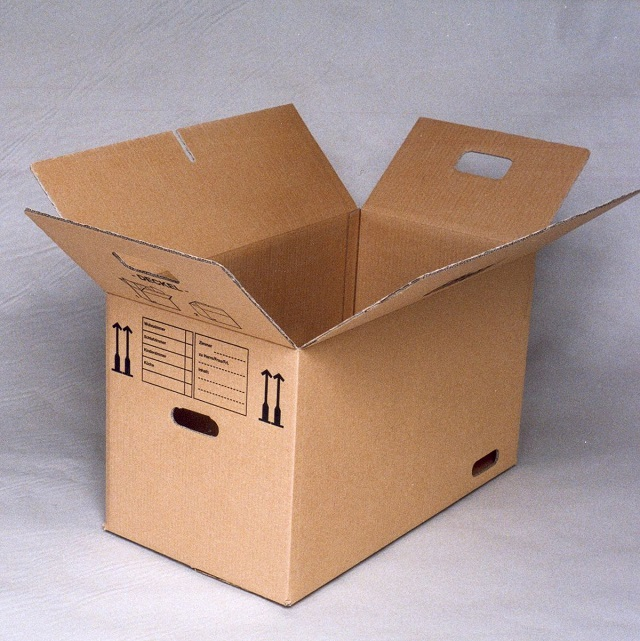box: (26, 103, 640, 609)
